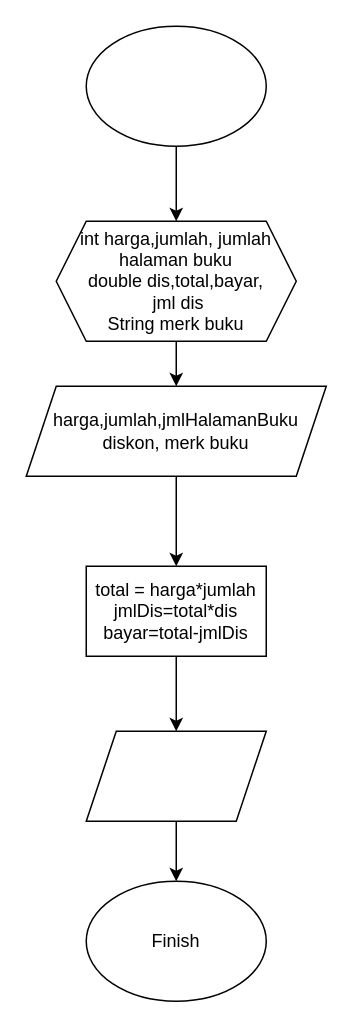
Some shapes in this 353 by 1028 pixel diagram are drawn without their labels. The box of each missing label's shape, as (x1, y1, x2, y2) in pixels:
jmlDis bayar: (85, 730, 266, 821)
Start: (85, 25, 266, 146)
